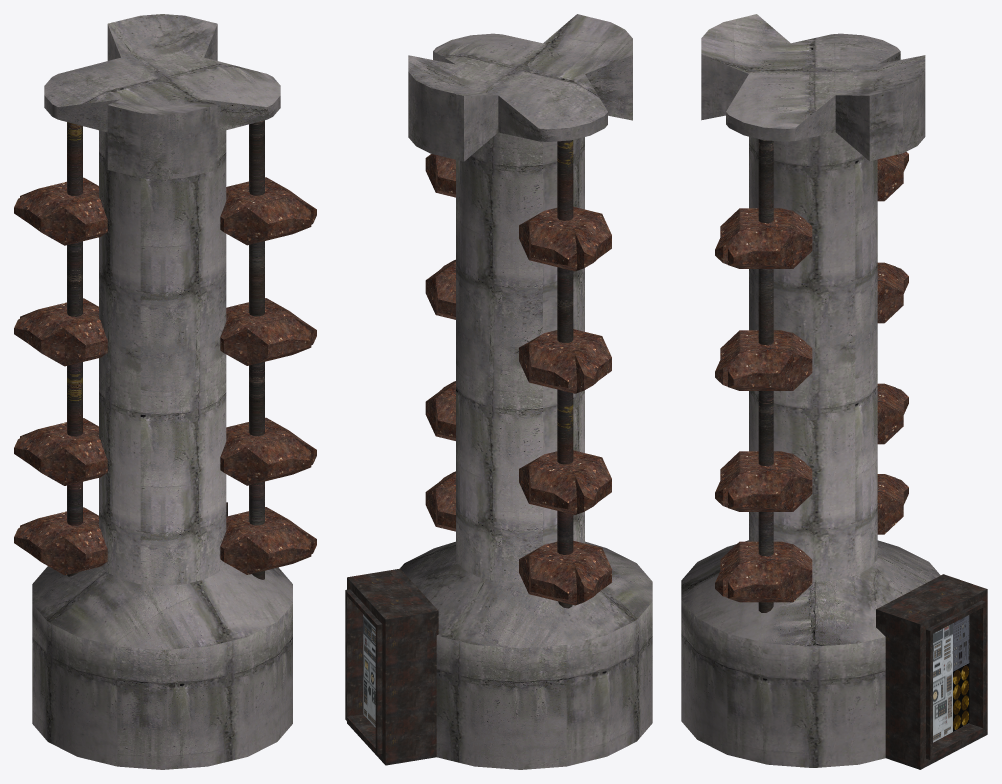
File: Stolb.FBX
The picture shows the model from 3 angles, left to right: view 1: azimuth 30°, elevation 25°; view 2: azimuth 150°, elevation 25°; view 3: azimuth 270°, elevation 25°; orthographic projection.
Visible parts, largest first — view 1: Cylinder001, Box002, Cylinder003; view 2: Cylinder001, Box002, Box005, Cylinder003, табло; view 3: Cylinder001, Box002, Box005, Cylinder003, табло.
Boxes of the visible parts, x1,y1,x2,y2 form: Cylinder001: [32, 14, 292, 769]; Box002: [14, 177, 316, 575]; Cylinder003: [67, 120, 264, 579]; Cylinder001: [400, 14, 652, 769]; Box002: [425, 154, 611, 605]; Box005: [345, 568, 438, 765]; Cylinder003: [557, 140, 573, 608]; табло: [363, 614, 375, 727]; Cylinder001: [681, 14, 940, 767]; Box002: [715, 151, 908, 602]; Box005: [876, 574, 987, 769]; Cylinder003: [758, 139, 773, 612]; табло: [933, 615, 969, 742].
Bounding box in the file's own units: 20.01 × 53.27 × 22.51.
